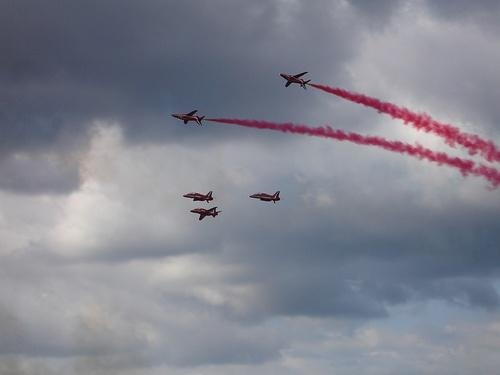aeroplane: (170, 110, 206, 128), (280, 71, 312, 90), (189, 206, 223, 221), (249, 190, 283, 204), (183, 190, 216, 204)
